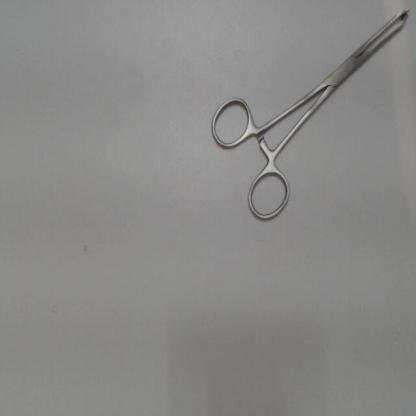Allis Tissue Forceps: (202, 3, 414, 230)
